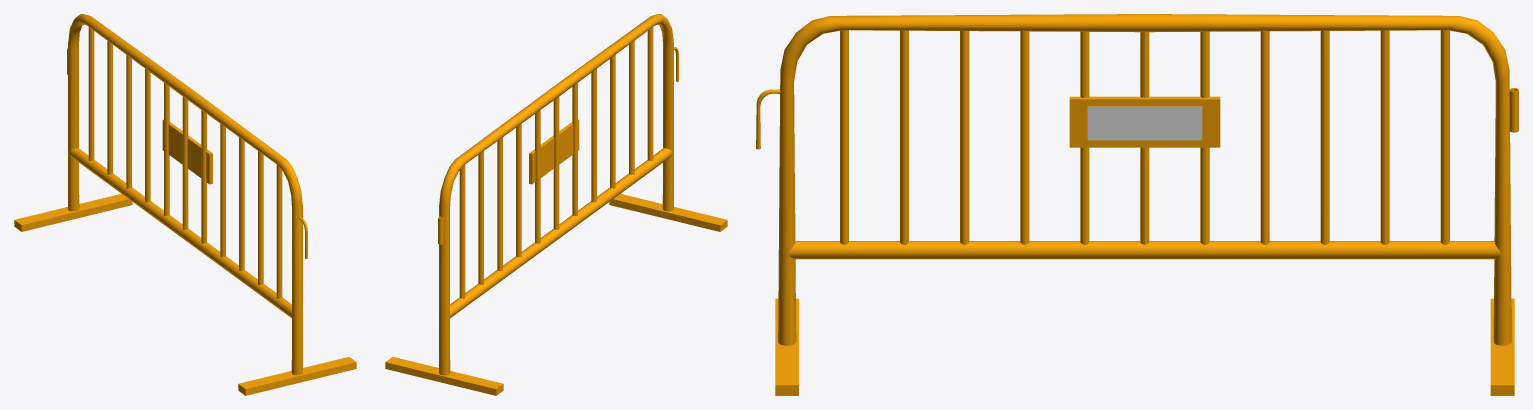
Rendered from VallaObra.fbx.
3 views of the same model, side by side, from view 1: azimuth 30°, elevation 25°; view 2: azimuth 150°, elevation 25°; view 3: azimuth 270°, elevation 25° (orthographic). The views are drawn at different scales.
Visible parts, largest first — view 1: Circle.001, Barra Arriba, Barra Arriba.001, Cube.001, Cube, Cube.002; view 2: Circle.001, Barra Arriba, Barra Arriba.001, Cube, Cube.001, Cube.002; view 3: Barra Arriba, Circle.001, Barra Arriba.001, Cube.002, Cube.003, Cube, Cube.001.
Boxes of the visible parts, x1=… form: Circle.001: x1=88, y1=27, x2=282, y2=298; Barra Arriba: x1=68, y1=14, x2=302, y2=375; Barra Arriba.001: x1=68, y1=148, x2=292, y2=318; Cube.001: x1=238, y1=357, x2=356, y2=395; Cube: x1=14, y1=193, x2=132, y2=231; Cube.002: x1=162, y1=119, x2=212, y2=184; Circle.001: x1=459, y1=27, x2=653, y2=298; Barra Arriba: x1=439, y1=14, x2=673, y2=375; Barra Arriba.001: x1=449, y1=148, x2=673, y2=318; Cube: x1=385, y1=357, x2=503, y2=395; Cube.001: x1=609, y1=193, x2=727, y2=231; Cube.002: x1=529, y1=119, x2=579, y2=184; Barra Arriba: x1=778, y1=14, x2=1511, y2=345; Circle.001: x1=840, y1=30, x2=1449, y2=244; Barra Arriba.001: x1=787, y1=241, x2=1502, y2=259; Cube.002: x1=1069, y1=96, x2=1220, y2=147; Cube.003: x1=1087, y1=106, x2=1202, y2=140; Cube: x1=1490, y1=298, x2=1514, y2=395; Cube.001: x1=775, y1=298, x2=798, y2=395.
Size of the model in its own units: 57.21 by 104 by 213.
